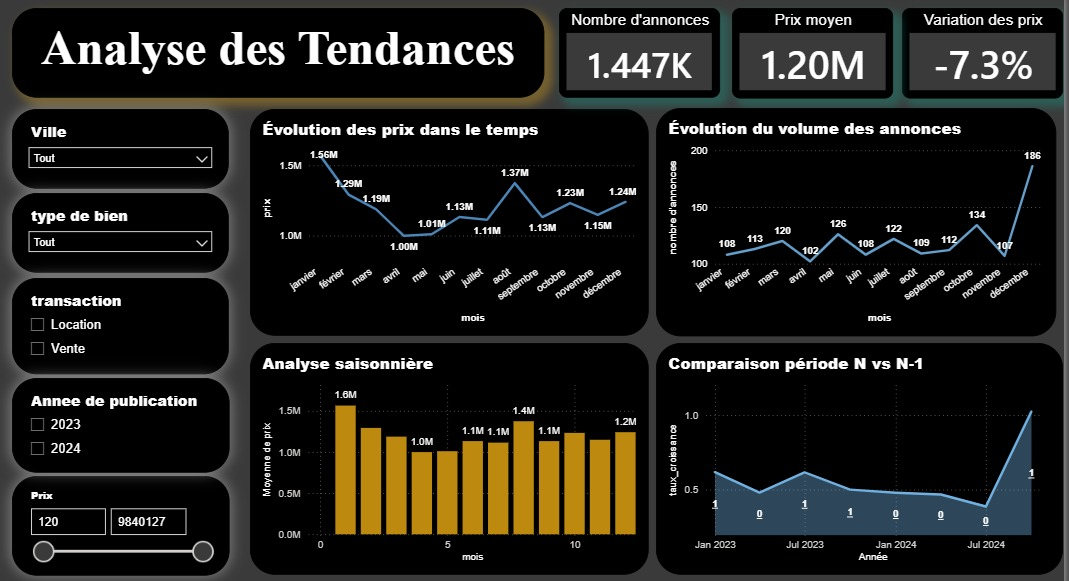

What the dashboard file says about the page in this screenshot:
{"tool":"powerbi","page":{"name":"Analyse des Tendances","canvas":[1280,720],"ordinal":3},"visuals":[{"type":"textbox","box":[14.4,16.9,640.5,108.4],"z":0},{"type":"slicer","fields":{"Values":["bi_schema dim_location.ville"]},"box":[14.4,138,261.4,96.4],"z":1000},{"type":"lineChart","title":"Évolution des prix dans le temps","fields":{"Category":["bi_schema dim_date.date_publication.Variation.Hiérarchie de dates.Mois"],"Y":["Avg(bi_schema fact_annonces.prix)"]},"box":[300.9,138.2,480.9,285.1],"z":2000},{"type":"slicer","fields":{"Values":["bi_schema dim_bien.type_bien"]},"box":[14.4,240.1,261.4,96.4],"z":3000},{"type":"slicer","fields":{"Values":["bi_schema dim_transaction.transaction"]},"box":[14.4,341.6,261.4,115.7],"z":4000},{"type":"slicer","fields":{"Values":["bi_schema fact_annonces.prix"]},"box":[14.4,580.6,261.5,119.7],"z":5000},{"type":"slicer","fields":{"Values":["bi_schema dim_date.annee_publication"]},"box":[14.4,462.3,262.1,113.6],"z":6000},{"type":"cardVisual","title":"Nombre d''annonces","fields":{"Data":["bi_schema dim_bien.nombre_total_annnces"]},"box":[673,16.9,193.8,108.4],"z":7000},{"type":"cardVisual","title":"Variation des prix","fields":{"Data":["bi_schema dim_bien.Variation_Prix"]},"box":[1085.9,16.5,194.1,108.7],"z":8000},{"type":"cardVisual","title":"Prix moyen","fields":{"Data":["Avg(bi_schema fact_annonces.prix)"]},"box":[880.9,16.5,194.1,108.7],"z":9000},{"type":"columnChart","title":"Analyse saisonnière","fields":{"Y":["Avg(bi_schema fact_annonces.prix)"],"Category":["bi_schema dim_date.mois_publication"]},"box":[300.8,432.1,480.7,287.6],"z":10000},{"type":"stackedAreaChart","title":"Comparaison période N vs N-1","fields":{"Y":["bi_schema dim_bien.taux_croissance"],"Category":["bi_schema dim_date.date_publication.Variation.Hiérarchie de dates.Année","bi_schema dim_date.date_publication.Variation.Hiérarchie de dates.Trimestre","bi_schema dim_date.date_publication.Variation.Hiérarchie de dates.Mois","bi_schema dim_date.date_publication.Variation.Hiérarchie de dates.Jour"]},"box":[790.4,432.1,489.6,287.6],"z":11000},{"type":"areaChart","title":"Évolution du volume des annonces","fields":{"Category":["bi_schema dim_date.date_publication.Variation.Hiérarchie de dates.Mois"],"Y":["Count(bi_schema fact_annonces.annonce_id)"]},"box":[790.4,137.1,480.7,284.6],"z":11001}]}

Visuals, with their boxes on the page's 1280x720 design canvas (x1, y1, x2, y2). These are canvas units, not pixel positions in the 1069x581 screenshot, which may show the page scaled, cropped or inside an application window:
textbox: (x1=14, y1=17, x2=655, y2=125)
slicer - bi_schema dim_location.ville: (x1=14, y1=138, x2=276, y2=234)
"Évolution des prix dans le temps" lineChart: (x1=301, y1=138, x2=782, y2=423)
slicer - bi_schema dim_bien.type_bien: (x1=14, y1=240, x2=276, y2=336)
slicer - bi_schema dim_transaction.transaction: (x1=14, y1=342, x2=276, y2=457)
slicer - bi_schema fact_annonces.prix: (x1=14, y1=581, x2=276, y2=700)
slicer - bi_schema dim_date.annee_publication: (x1=14, y1=462, x2=276, y2=576)
"Nombre d''annonces" cardVisual: (x1=673, y1=17, x2=867, y2=125)
"Variation des prix" cardVisual: (x1=1086, y1=16, x2=1280, y2=125)
"Prix moyen" cardVisual: (x1=881, y1=16, x2=1075, y2=125)
"Analyse saisonnière" columnChart: (x1=301, y1=432, x2=782, y2=720)
"Comparaison période N vs N-1" stackedAreaChart: (x1=790, y1=432, x2=1280, y2=720)
"Évolution du volume des annonces" areaChart: (x1=790, y1=137, x2=1271, y2=422)
